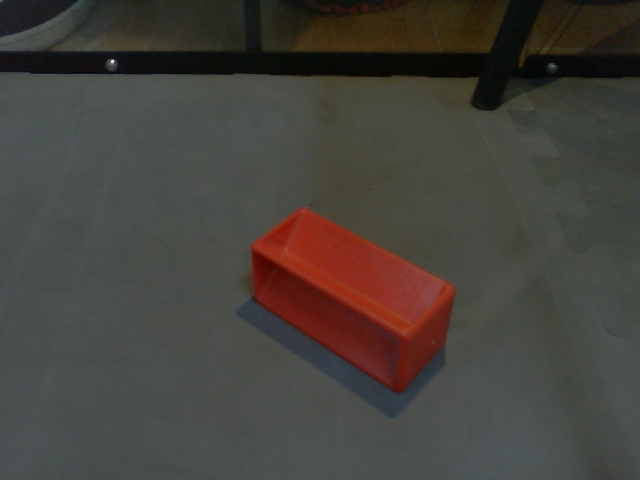RedSample: (249, 204, 457, 398)
